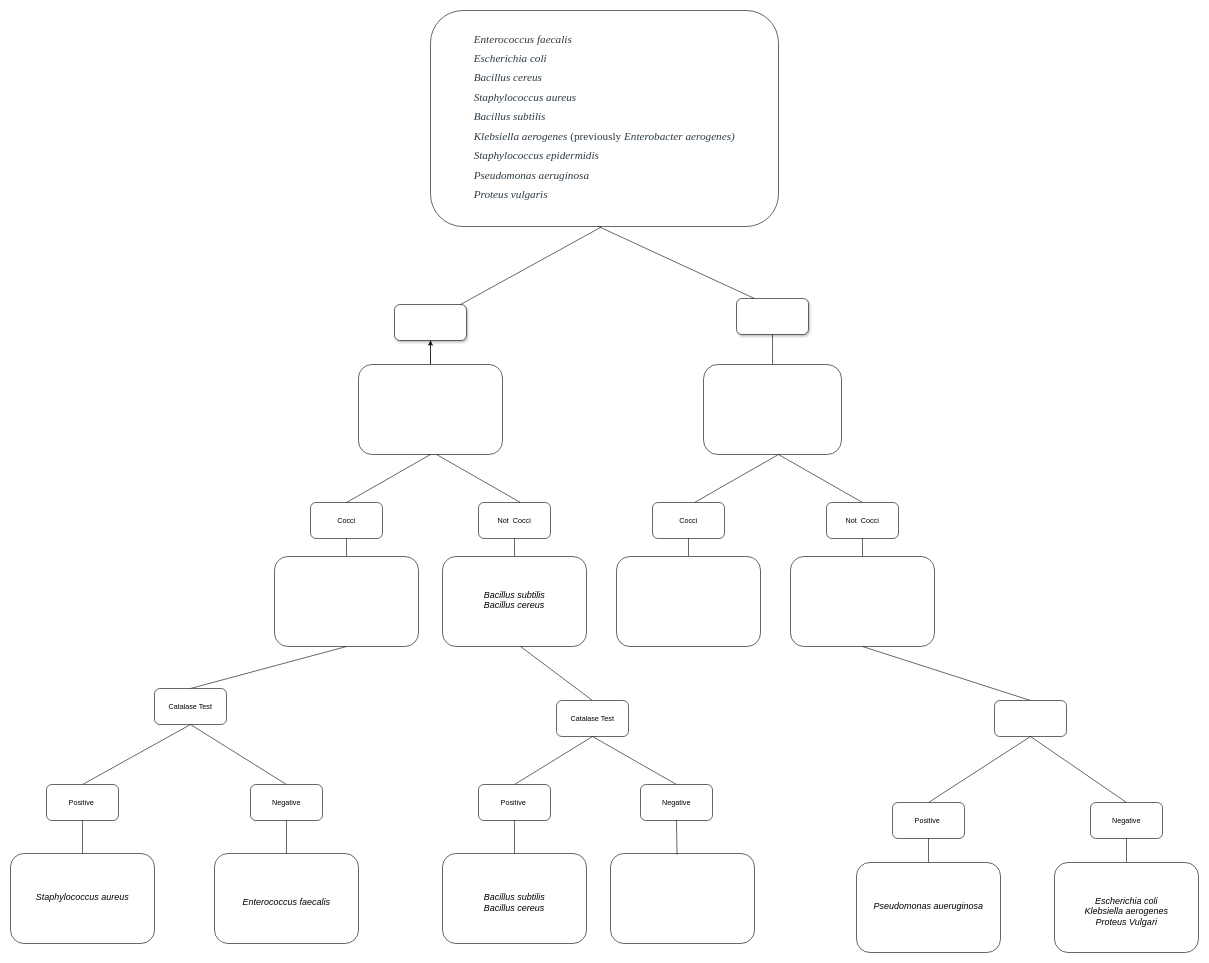
This 1209x963 diagram has some shape labels left out. The shapes that lost their labels are listed below. From the top down, each one's centre as x and y in pixels, then its label:
the point at 431,323: Gram Positive
the point at 773,317: Gram Negative
the point at 430,409: Bacillus subtilis Staphylococcus aureus Bacillus cereus Enterococcus faecalis
the point at 772,409: Escherichia coli Klebsiella aerogenes Pseudomonas aeruginosa Proteus vulgari
the point at 346,601: Staphylococcus aureus Enterococcus faecalis
the point at 862,601: Escherichia coli Klebsiella aerogenes Pseudomonas aueruginosa Proteus Vulgari
the point at 1030,718: Oxidase Test
